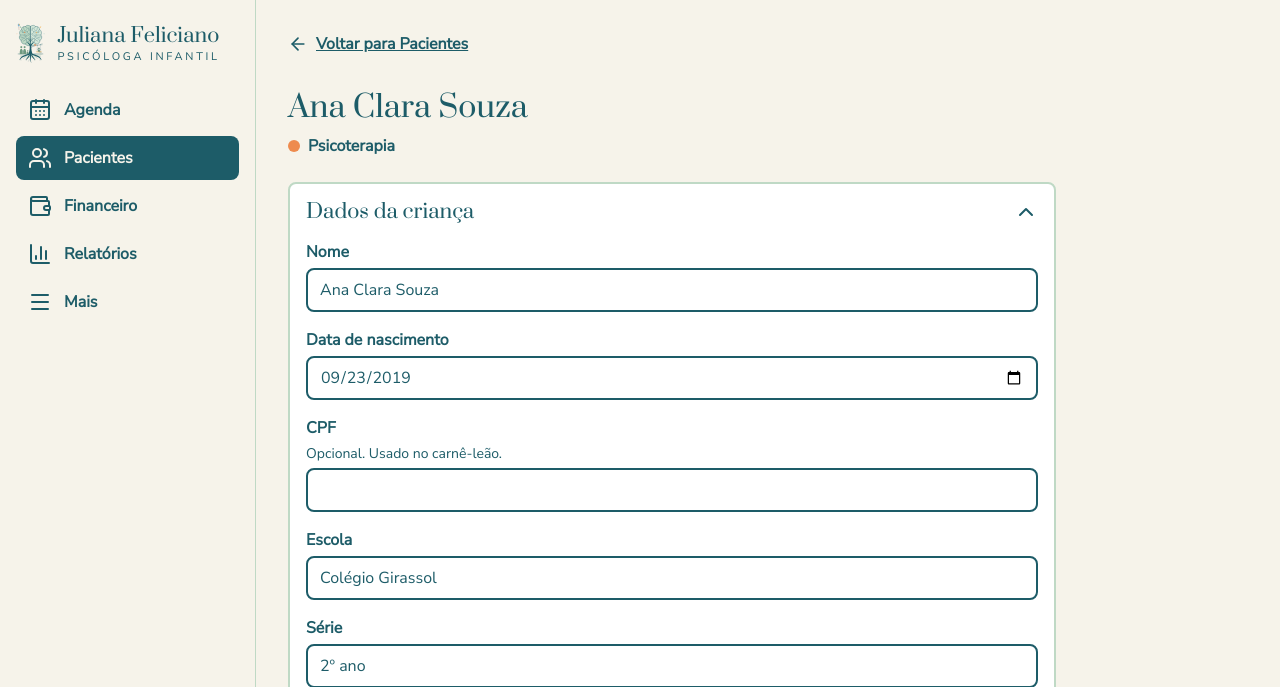
Test: FichaPaciente — dados da criança › edita e salva: CPF com a máscara 000.000.000-00
Replace the text in the field labelled "Escola" with "Escola Nova": (672, 578) [306,556,1038,600]
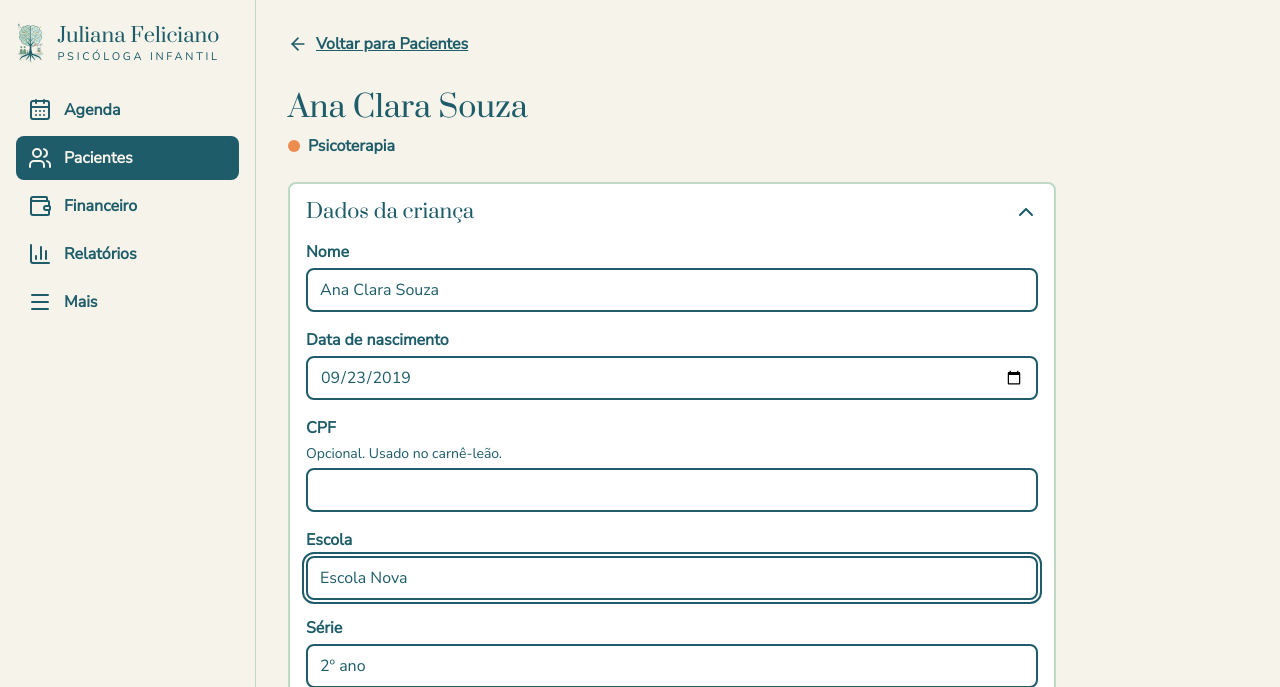
In the field labelled "CPF": (672, 490) [306,468,1038,512], type "98765432100"
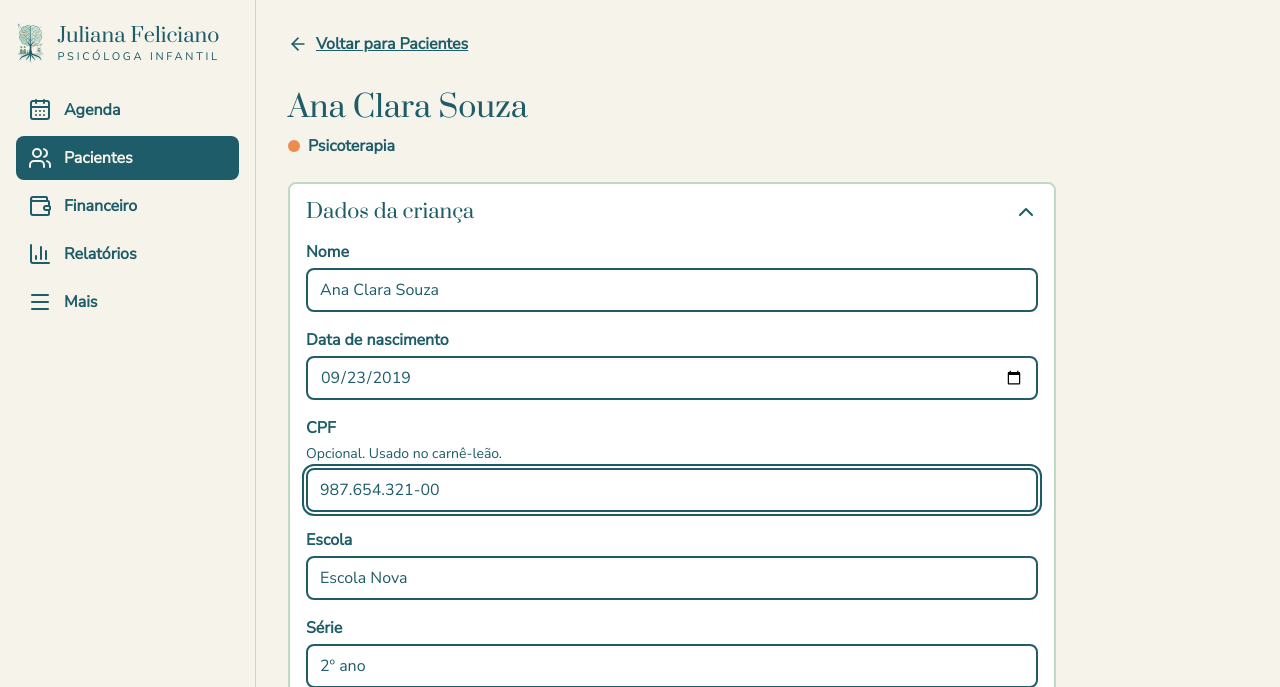
Result: the field labelled "CPF" holds "987.654.321-00" at [306,468,1038,512]
In the date field labelled "Data de nascimento": (672, 378) [306,356,1038,400], type "2019-03-08"
(page scrolled)
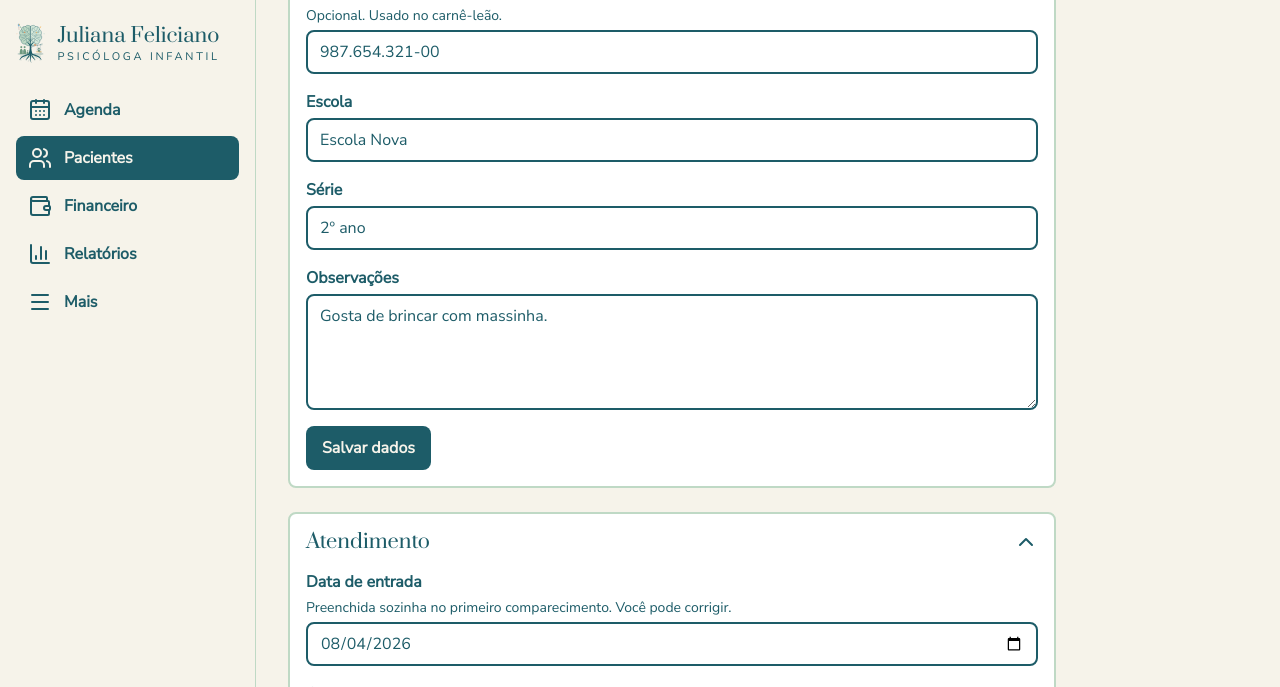
Click the button "Salvar dados": (368, 448) [306,426,431,470]
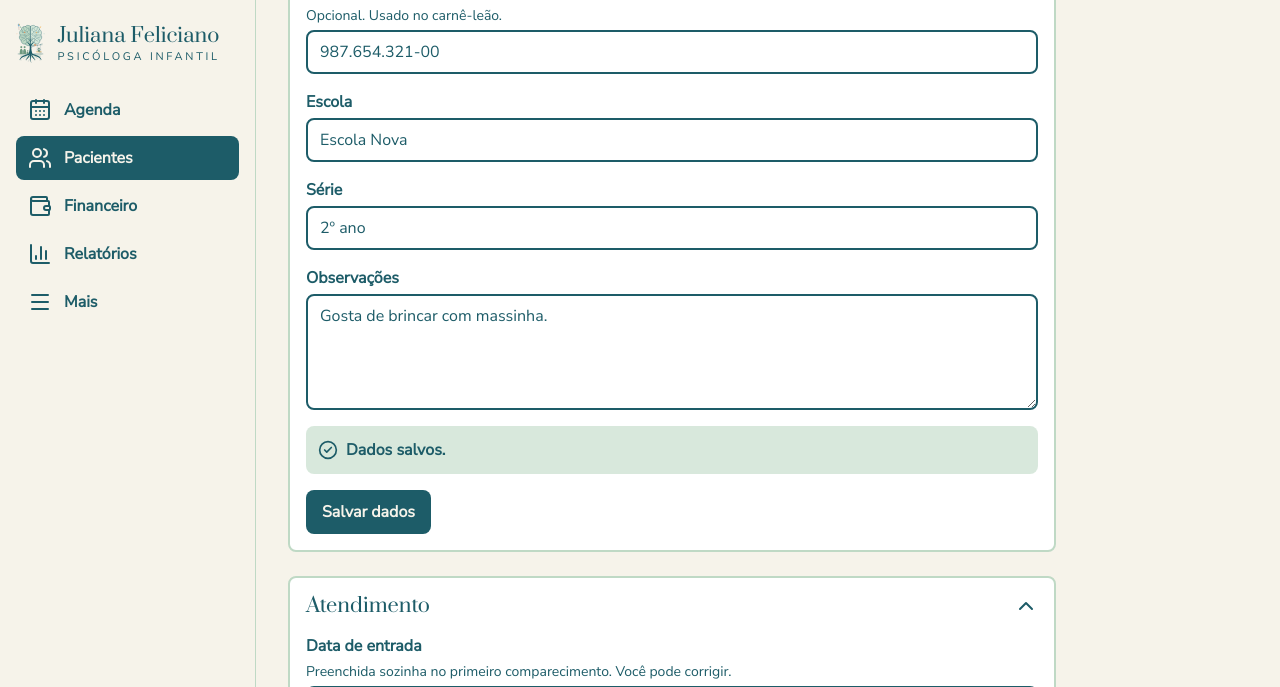
Result: the text "Dados salvos." is shown at [306,426,1038,474]
